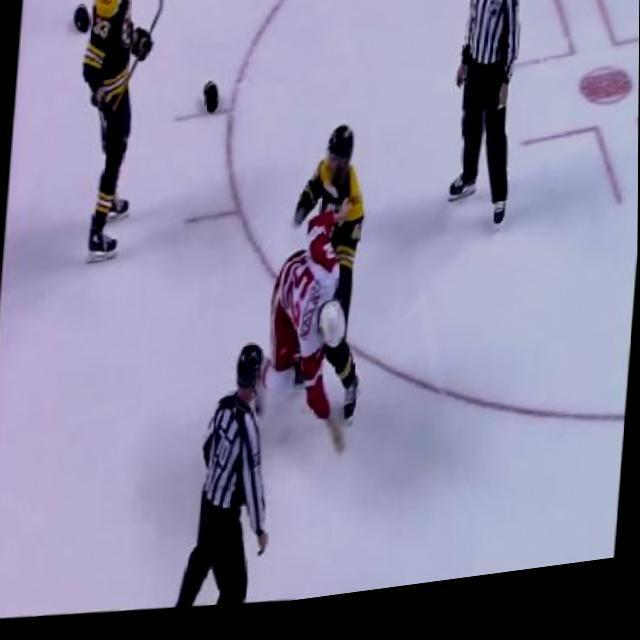fight: (257, 125, 381, 460)
